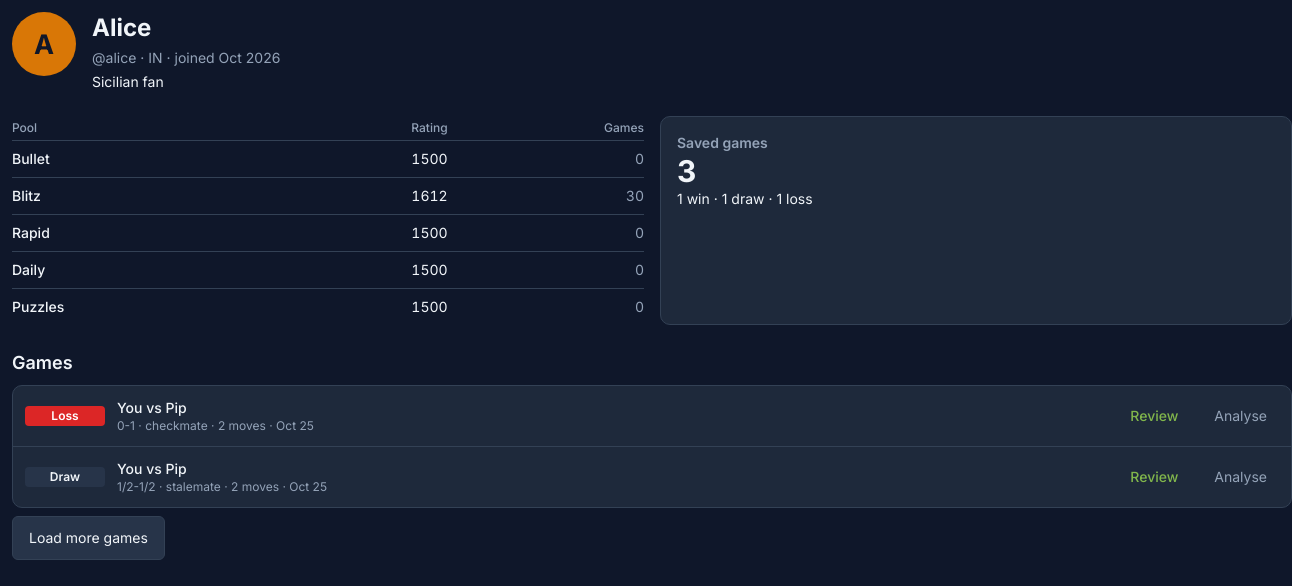
Test case: <ProfileView> › shows the player, their ratings, record and archive with review links
This screenshot has width=1292, height=586.
Expected: the heading "Alice" is shown, x1=92 y1=13 x2=151 y2=42
Expected: the text "@alice · IN · joined Oct 2026" is shown, x1=92 y1=49 x2=280 y2=66
Click the button "Load more games" at (88, 538), box x1=12 y1=516 x2=165 y2=560
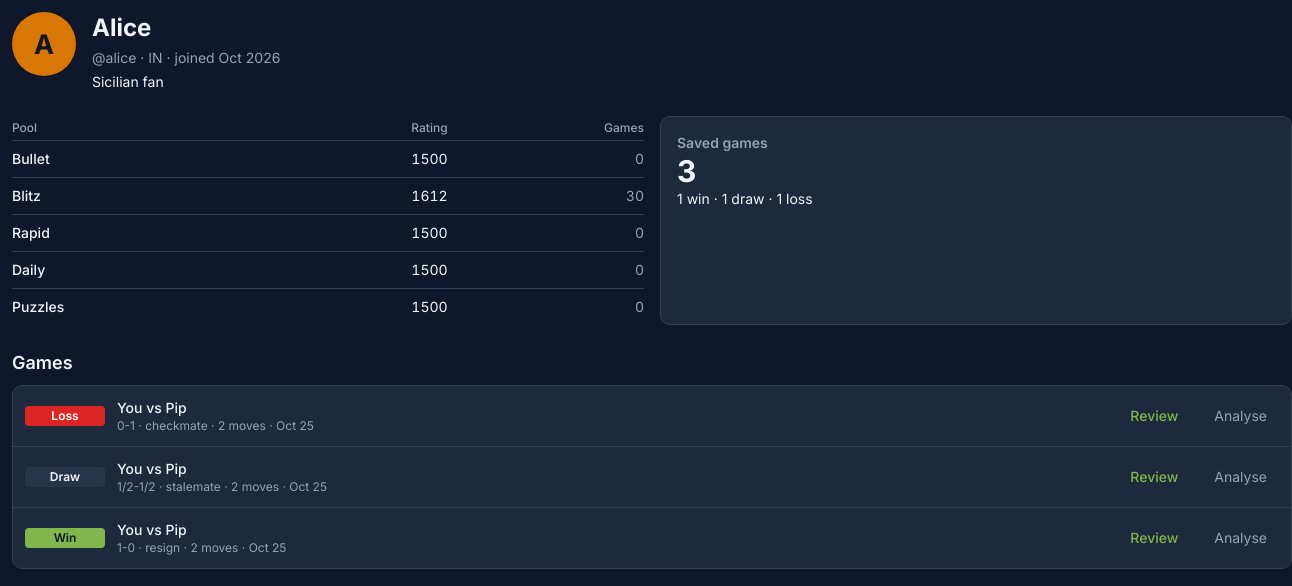
Now the number of list items is 3, box x1=13 y1=386 x2=1291 y2=447; x1=13 y1=447 x2=1291 y2=508; x1=25 y1=521 x2=1267 y2=555
Now the list item that starts with "Win" is shown, box x1=54 y1=530 x2=76 y2=545
Now the button "Load more games" is gone
